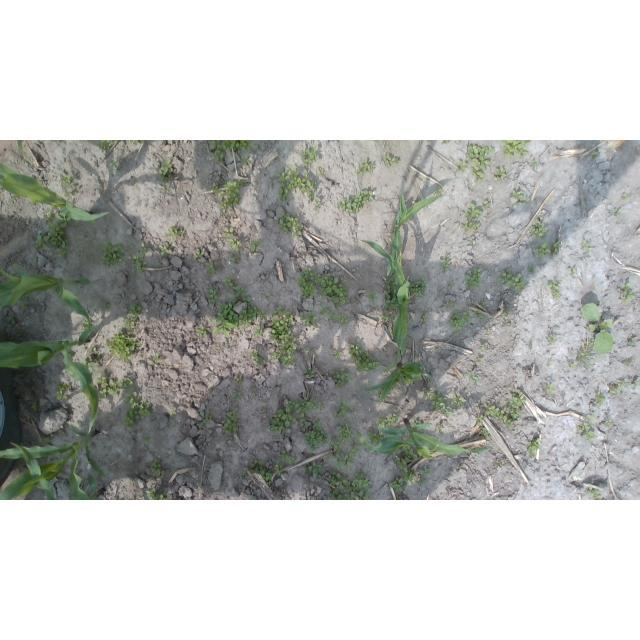Maize: (0, 324, 104, 436), (0, 420, 108, 499), (360, 238, 411, 373), (0, 160, 108, 222), (352, 419, 492, 459), (12, 439, 103, 500), (0, 266, 94, 324), (386, 192, 443, 277), (361, 361, 435, 406), (16, 141, 88, 172)
Weeds: (581, 301, 617, 355), (34, 208, 70, 260), (276, 165, 320, 204), (270, 306, 298, 367), (328, 472, 373, 501), (122, 391, 153, 428), (106, 332, 141, 363), (319, 274, 350, 308), (266, 406, 297, 439), (211, 302, 239, 338), (422, 387, 455, 417), (300, 419, 328, 454), (348, 344, 380, 373), (337, 190, 374, 215), (222, 275, 253, 303), (219, 180, 245, 213), (483, 403, 514, 430), (389, 471, 425, 493), (466, 144, 495, 171), (297, 267, 321, 299), (288, 397, 324, 418), (99, 240, 125, 269), (460, 203, 483, 233), (576, 412, 597, 443), (278, 212, 304, 237), (96, 373, 120, 400), (240, 304, 267, 328), (498, 269, 526, 292), (500, 140, 532, 160), (449, 308, 473, 333), (504, 389, 524, 419), (250, 459, 273, 485), (209, 140, 258, 152), (577, 340, 596, 370), (123, 304, 142, 333), (384, 276, 400, 310), (330, 368, 355, 389), (222, 227, 243, 251), (60, 172, 80, 197), (324, 438, 345, 461), (222, 407, 239, 435), (83, 347, 102, 371), (133, 243, 147, 274), (333, 400, 354, 420), (527, 220, 549, 239), (338, 421, 357, 443), (157, 159, 174, 182), (408, 278, 428, 297), (343, 442, 361, 463), (466, 268, 483, 290), (301, 145, 318, 167), (354, 158, 375, 175), (618, 282, 635, 303), (300, 312, 320, 329), (376, 413, 399, 427), (511, 190, 531, 206), (527, 438, 542, 459), (534, 242, 552, 259), (247, 349, 265, 366), (55, 383, 72, 401), (548, 279, 563, 299), (327, 312, 350, 325), (608, 378, 625, 395), (149, 459, 165, 476), (394, 456, 411, 472), (165, 226, 183, 241), (210, 180, 225, 197), (19, 295, 34, 312), (587, 486, 605, 500), (198, 411, 212, 429), (116, 376, 134, 390), (147, 488, 168, 500), (98, 140, 119, 152), (470, 166, 485, 182), (280, 451, 296, 466), (309, 462, 324, 478), (402, 445, 418, 460), (207, 287, 219, 306), (439, 254, 452, 271), (593, 391, 607, 406), (334, 461, 355, 471), (367, 431, 384, 443), (552, 239, 563, 257), (580, 240, 590, 259), (495, 167, 508, 181), (384, 154, 398, 167), (452, 394, 466, 407), (230, 387, 243, 401), (455, 160, 469, 172), (108, 158, 122, 170), (275, 460, 286, 475), (367, 289, 377, 305), (544, 383, 557, 395), (158, 243, 170, 256), (467, 370, 480, 382), (205, 262, 217, 274), (419, 466, 431, 478), (250, 240, 261, 253), (320, 305, 333, 316), (233, 375, 246, 386), (159, 183, 173, 193), (214, 150, 225, 162), (196, 326, 208, 337), (43, 433, 56, 443), (303, 367, 316, 377), (381, 313, 395, 322), (193, 249, 204, 260), (589, 151, 602, 160), (81, 317, 90, 330), (433, 186, 443, 197), (229, 253, 239, 264), (476, 414, 485, 426), (255, 326, 264, 338), (100, 300, 112, 309), (152, 352, 161, 364), (8, 312, 17, 324), (420, 312, 428, 325), (547, 334, 557, 344), (333, 349, 343, 359), (482, 199, 491, 210), (567, 267, 578, 276), (376, 387, 385, 398), (313, 201, 322, 211), (481, 427, 490, 437), (304, 346, 314, 355), (126, 140, 140, 146), (530, 160, 539, 169), (528, 264, 537, 273), (604, 419, 613, 428), (142, 435, 151, 444), (241, 156, 250, 165), (631, 379, 639, 389), (477, 343, 487, 351), (436, 424, 444, 434), (448, 278, 455, 289), (494, 461, 506, 467), (477, 311, 485, 320), (263, 292, 272, 300), (624, 359, 634, 366), (242, 467, 249, 477), (33, 257, 40, 267), (479, 300, 487, 308), (170, 407, 177, 416), (31, 402, 38, 411), (628, 338, 636, 345), (546, 361, 554, 368), (446, 301, 455, 307), (471, 239, 478, 246), (621, 193, 629, 199), (614, 207, 620, 215), (567, 362, 575, 368), (318, 167, 324, 175), (259, 404, 266, 410), (475, 357, 483, 362), (441, 140, 450, 144), (502, 311, 509, 316), (485, 327, 491, 332), (413, 418, 419, 423), (251, 387, 257, 391), (172, 422, 178, 426), (26, 219, 30, 225), (425, 141, 431, 144), (507, 323, 511, 327)
